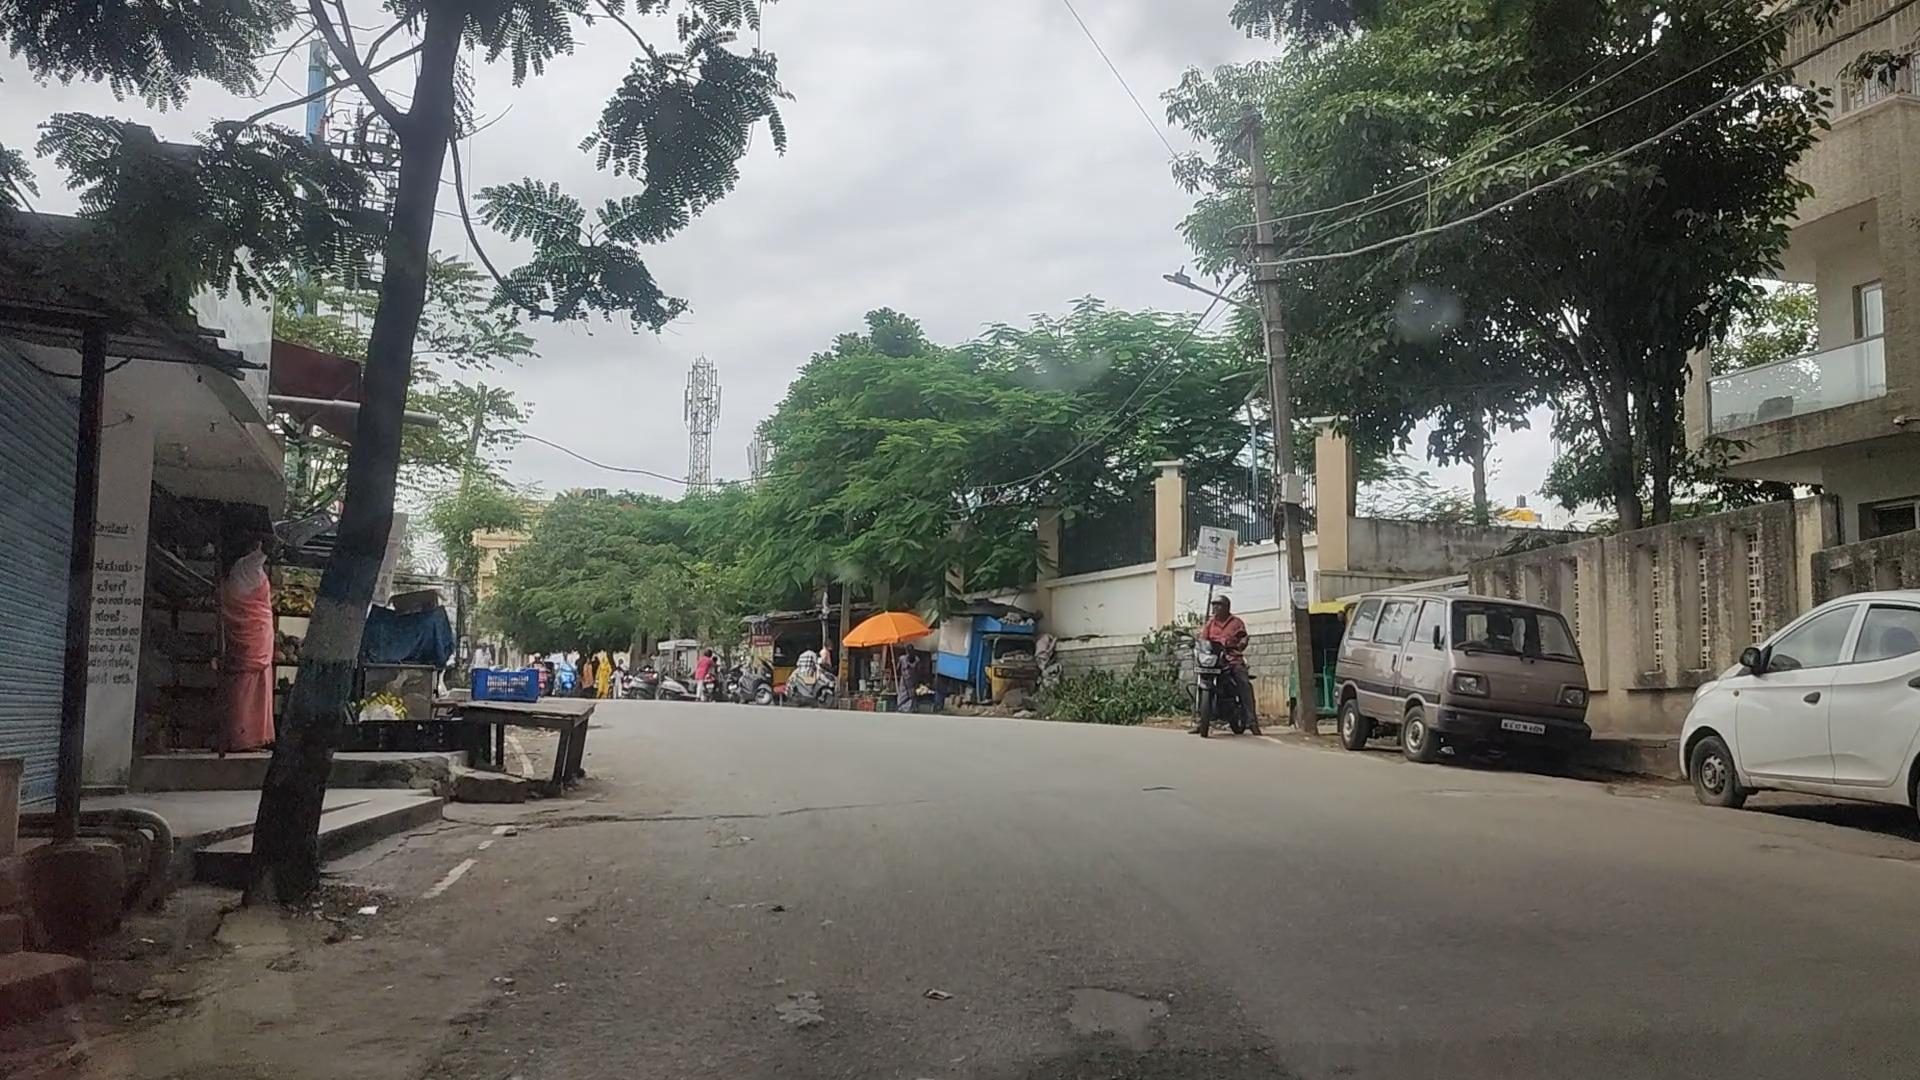RoadDamages: (1007, 905, 1200, 1044)
